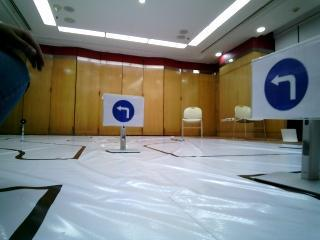left: (251, 54, 318, 110), (105, 96, 140, 128)
